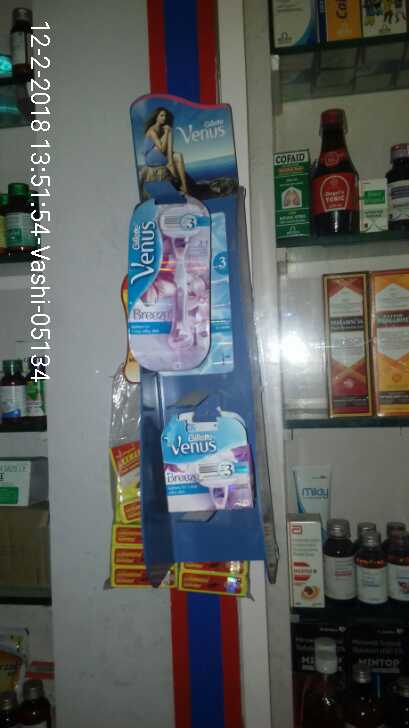beauty: (125, 188, 215, 373), (151, 396, 260, 519)
